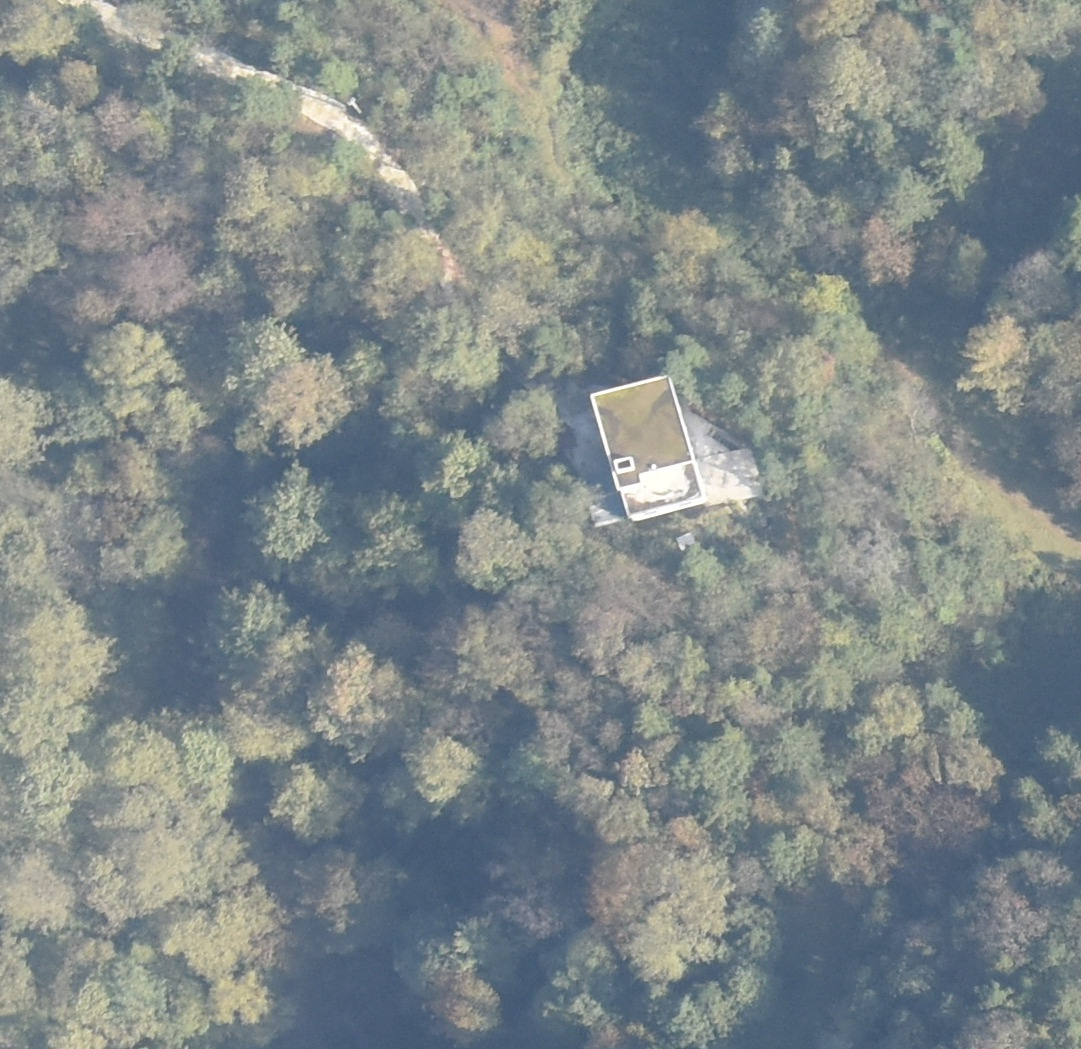building: (588, 372, 708, 520)
